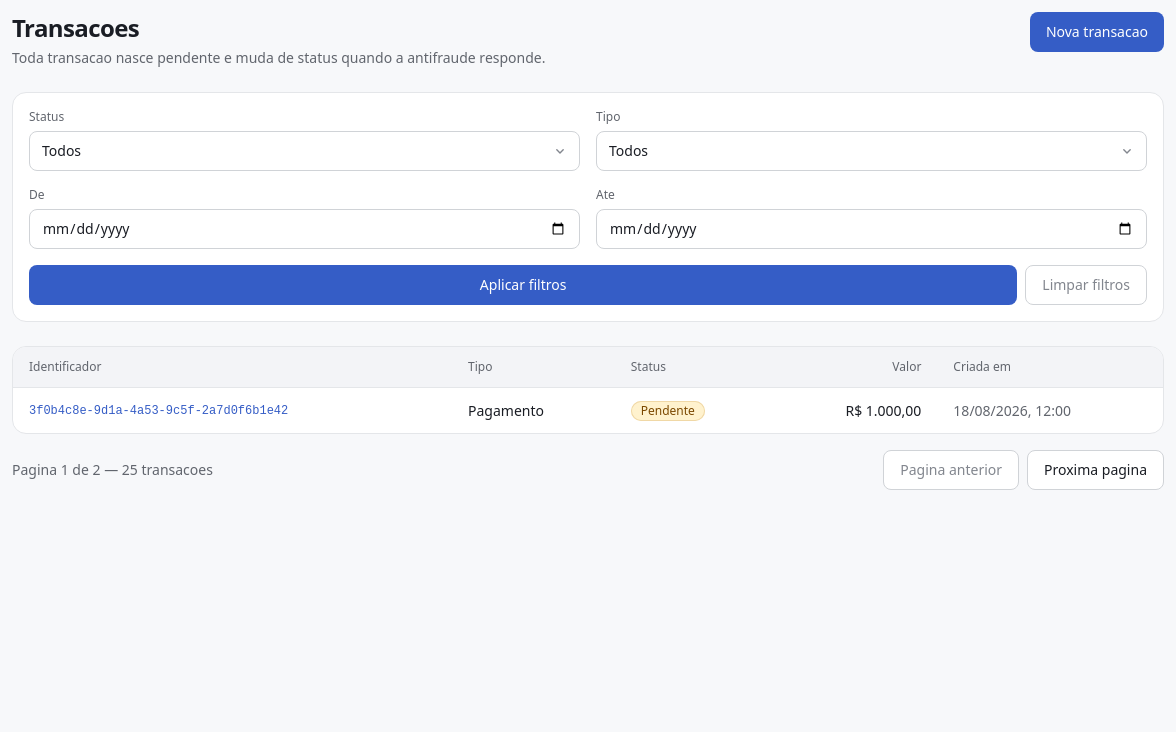
Test: TransactionsView › oferece a volta quando a pagina aberta deixou de existir
Expected: the table is shown, [13,347,1163,433]
What coordinates should you click on to do the following:
click the button "Proxima pagina"
I would click on:
 (1096, 470)
Its box is [1027,450,1164,490].
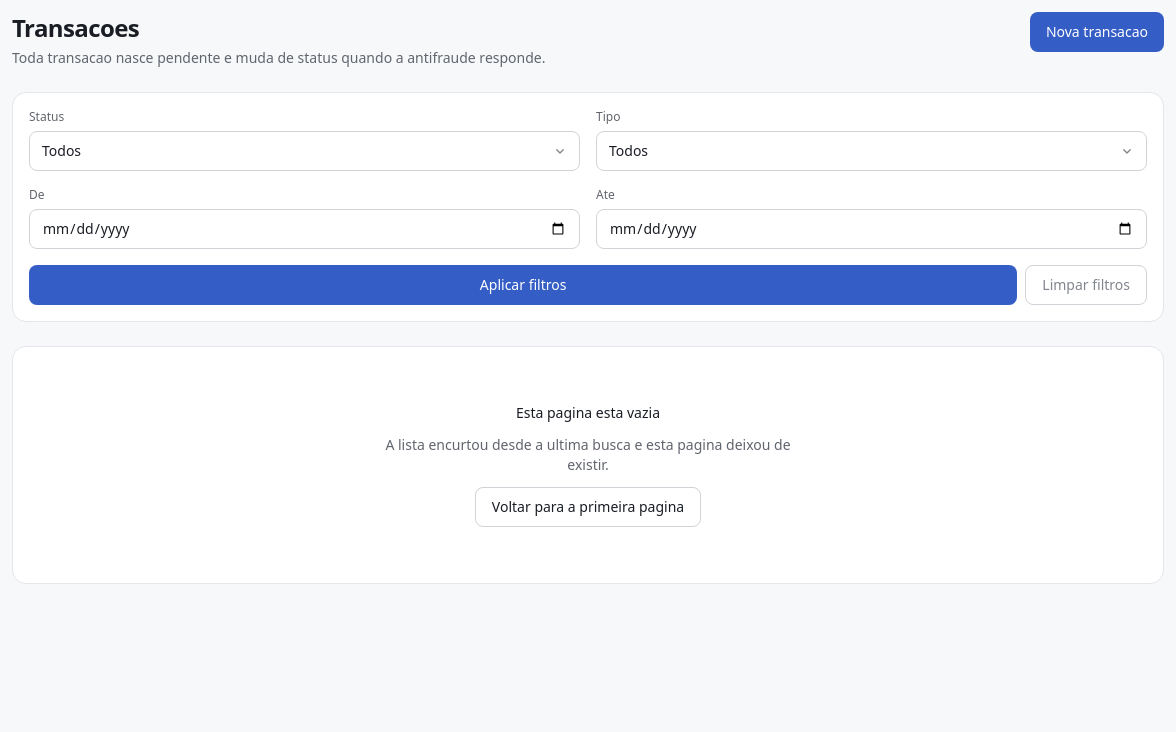
Result: the text "Esta pagina esta vazia" is shown at [516,403,660,423]
What coordinates should you click on to do the following:
click the button "Voltar para a primeira pagina"
I would click on:
 (588, 507)
Its box is [475,487,701,527].
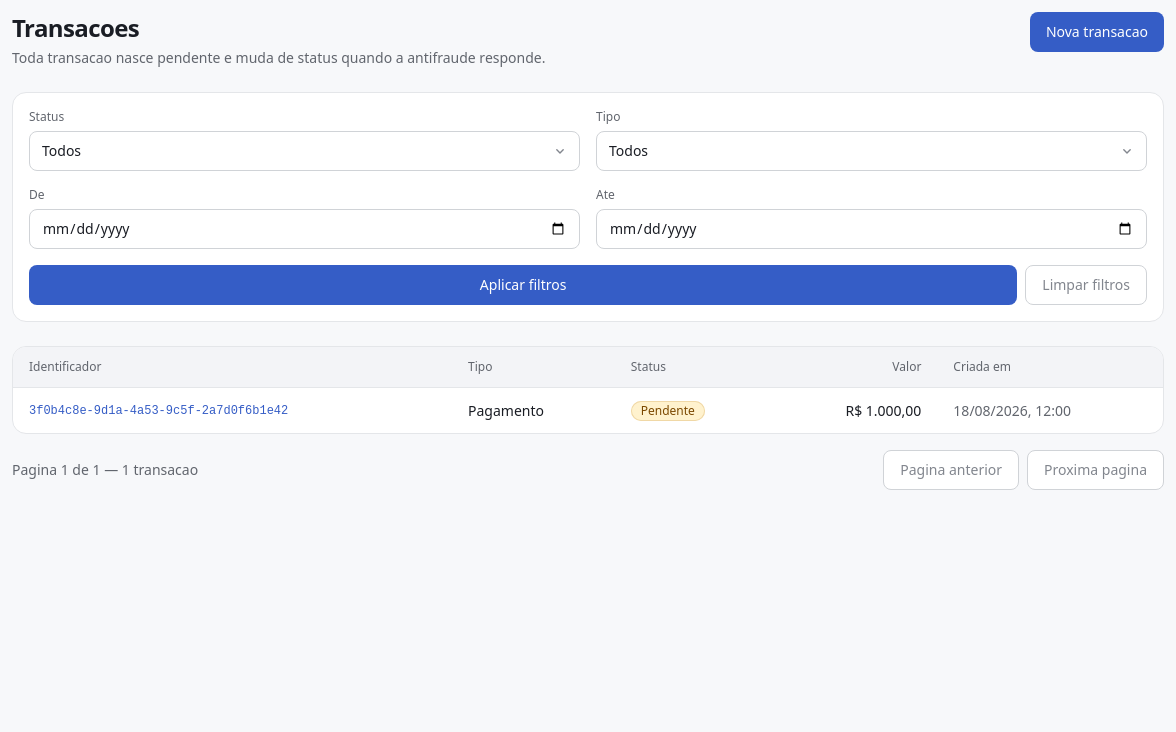
Result: the table is shown at [13,347,1163,433]
